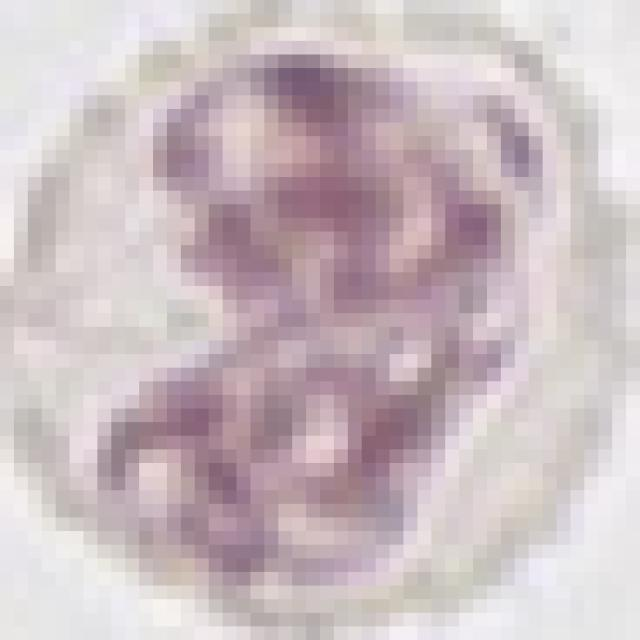nucleus: (86, 25, 589, 620)
